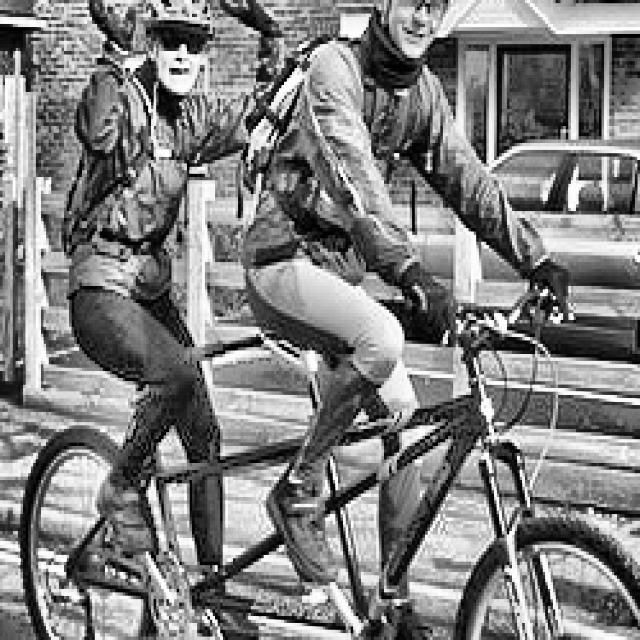light_vehicle: (399, 136, 640, 375)
